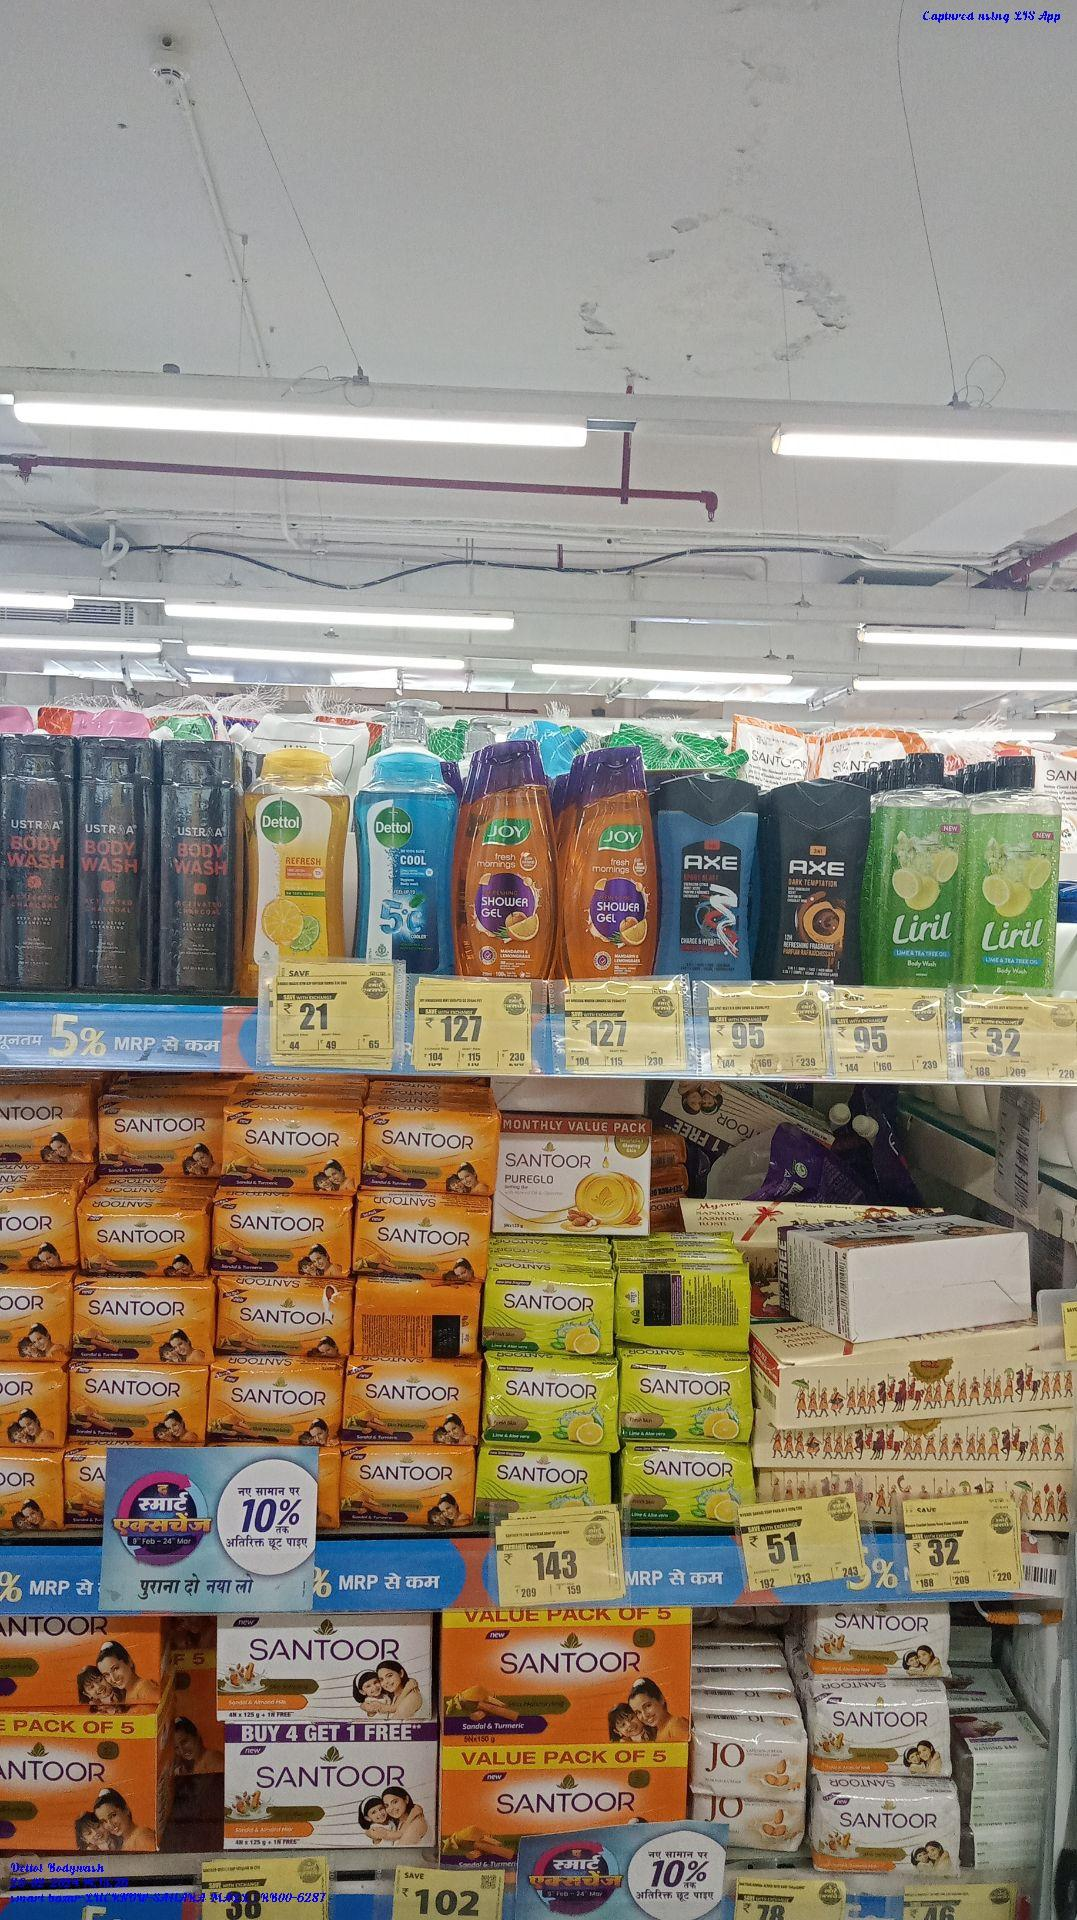Dettol_Bodywash_Cool: (243, 745, 352, 969), (356, 753, 453, 972)
